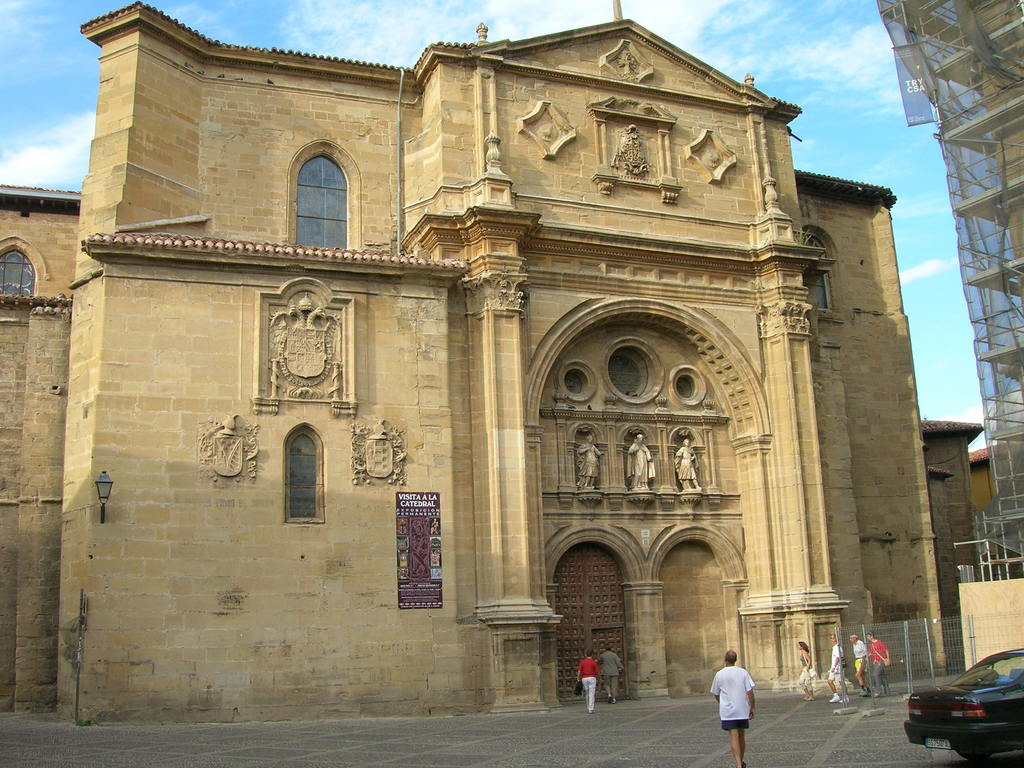Car: (901, 669, 1024, 753)
